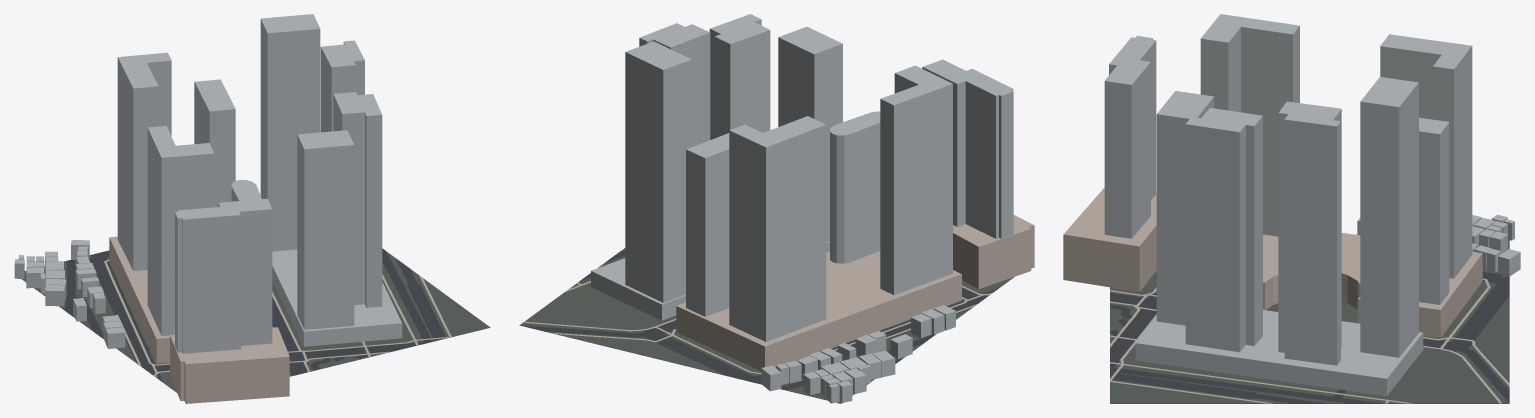
Rendered from tile_005_010.glb.
3 renders of one model, left to right at view 1: azimuth 30°, elevation 25°; view 2: azimuth 150°, elevation 25°; view 3: azimuth 270°, elevation 25°, orthographic. The views are drawn at different scales.
Parts seen in each view (by area): view 1: tile_005_010_buildings_neutral, tile_005_010_buildings_residential, tile_005_010_roads, tile_005_010_ground, tile_005_010_paths; view 2: tile_005_010_buildings_neutral, tile_005_010_buildings_residential, tile_005_010_ground, tile_005_010_roads, tile_005_010_paths; view 3: tile_005_010_buildings_neutral, tile_005_010_ground, tile_005_010_buildings_residential, tile_005_010_roads, tile_005_010_paths.
Boxes of the visible parts, x1,y1,x2,y2 form: tile_005_010_buildings_neutral: (14, 14, 402, 353); tile_005_010_buildings_residential: (109, 236, 289, 403); tile_005_010_roads: (64, 248, 445, 381); tile_005_010_ground: (22, 251, 490, 392); tile_005_010_paths: (104, 259, 451, 377); tile_005_010_buildings_neutral: (591, 14, 1013, 403); tile_005_010_buildings_residential: (676, 215, 1034, 370); tile_005_010_ground: (519, 248, 1013, 403); tile_005_010_roads: (520, 250, 998, 390); tile_005_010_paths: (523, 281, 992, 374); tile_005_010_buildings_neutral: (1104, 14, 1520, 396); tile_005_010_ground: (1110, 234, 1509, 403); tile_005_010_buildings_residential: (1063, 187, 1482, 338); tile_005_010_roads: (1110, 272, 1509, 403); tile_005_010_paths: (1110, 278, 1509, 403).
Bounding box in the file's own units: 258 × 185 × 286.
